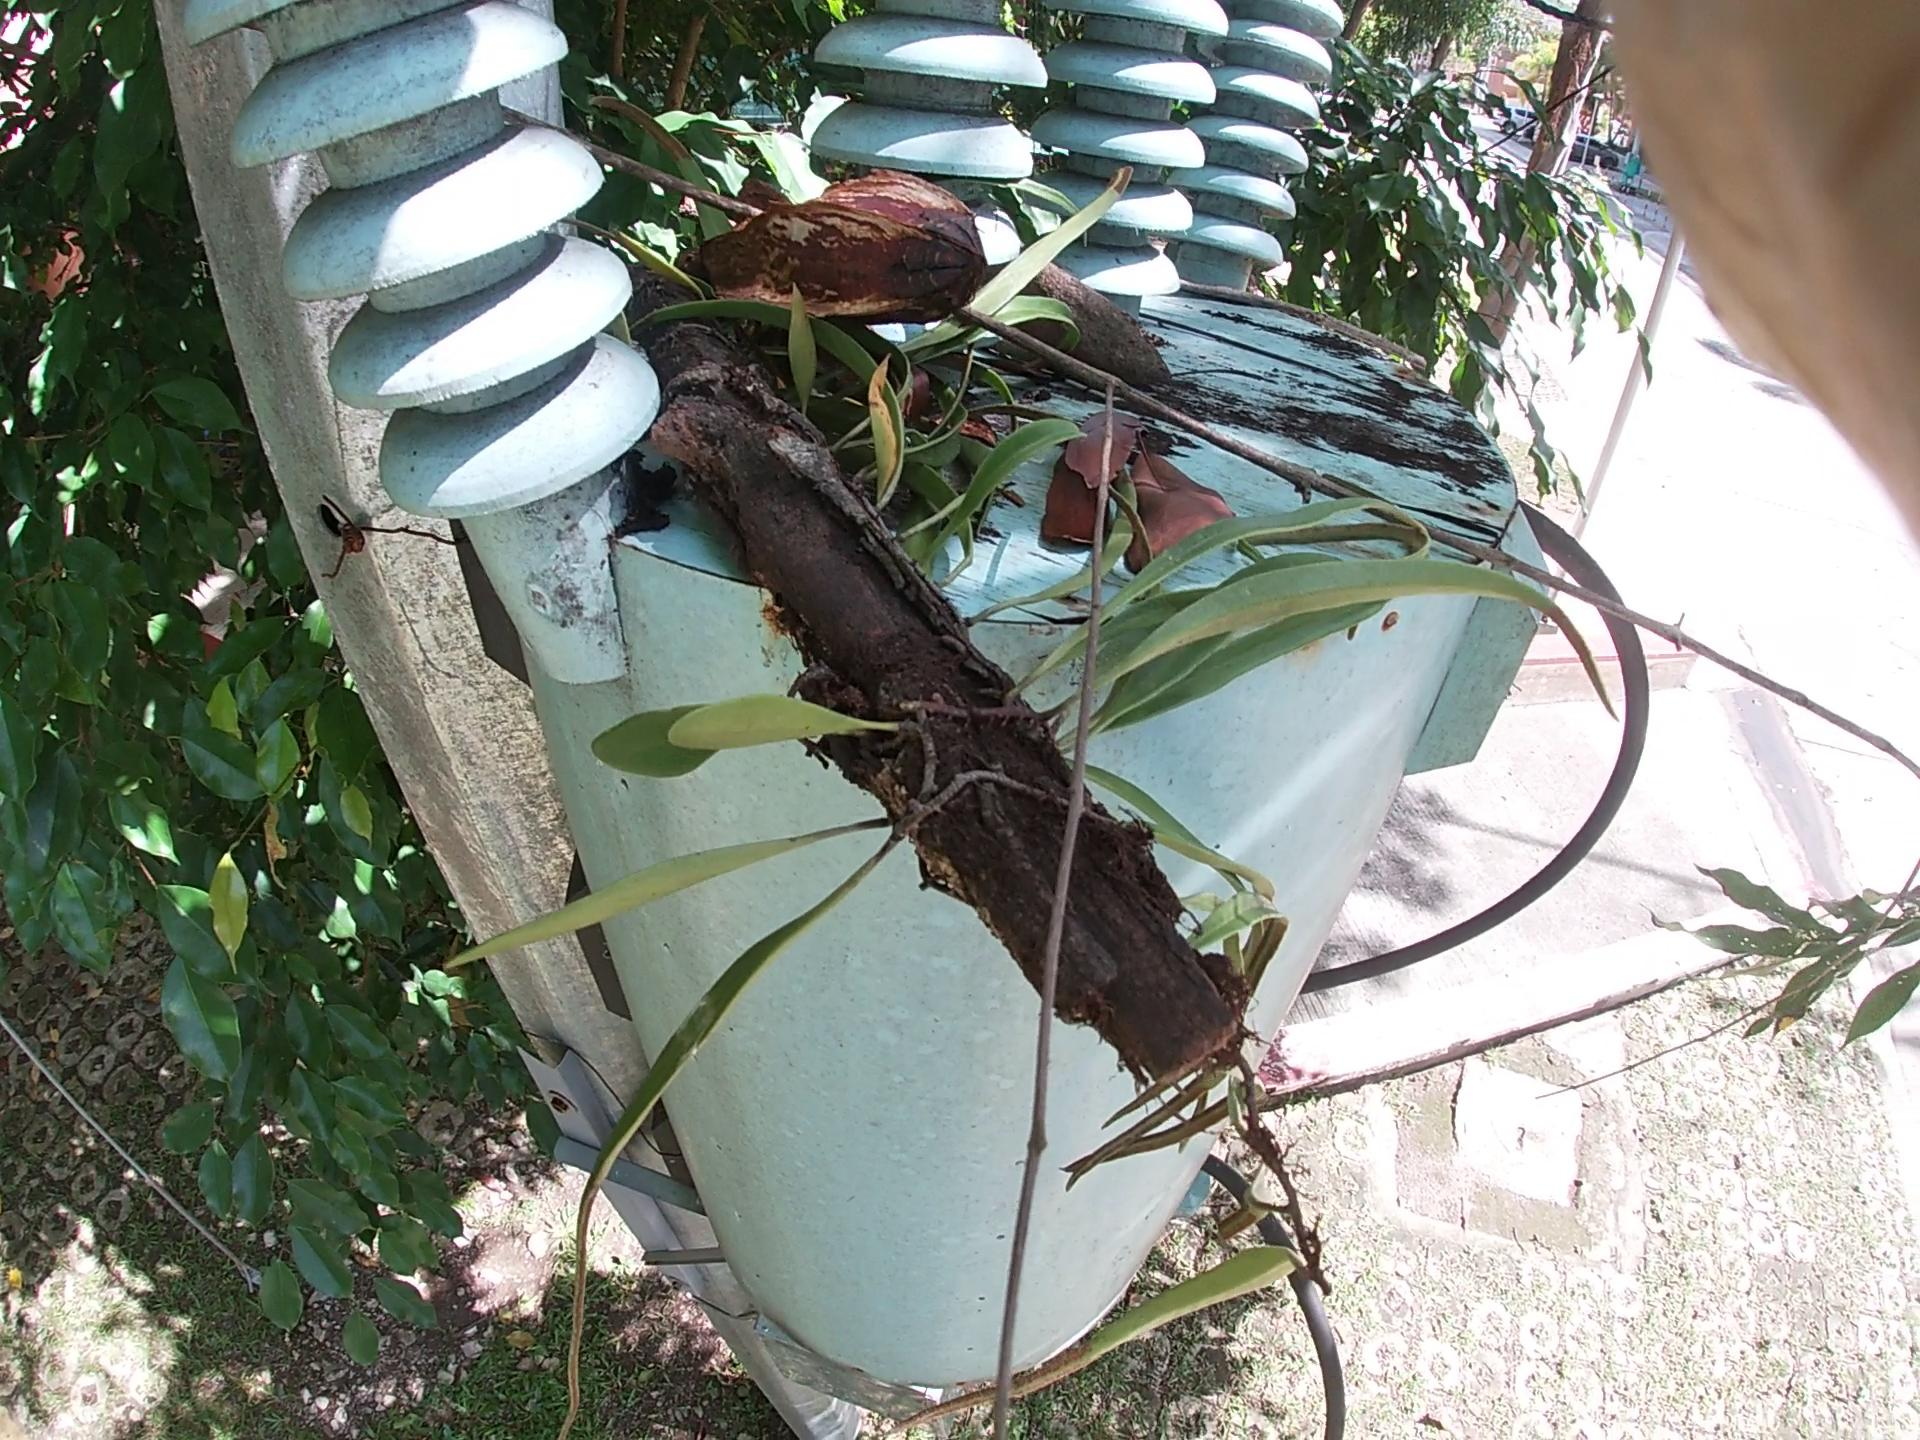branch with leaves: (588, 281, 1294, 1162)
leaf: (924, 414, 1223, 637)
mahogany fruit: (952, 185, 1190, 449), (677, 144, 971, 355)
tree branch: (658, 157, 1717, 791), (1161, 247, 1530, 431)
